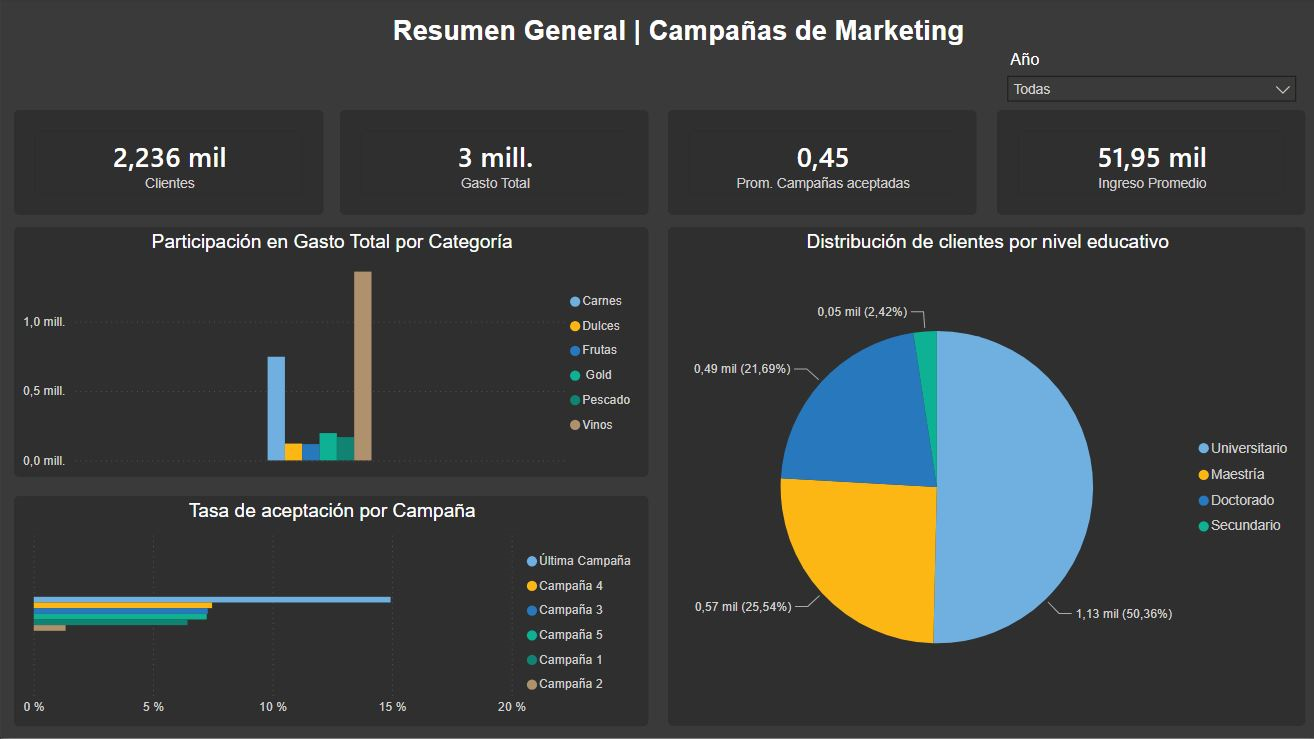

Layout of this report page (visuals, bound fields, positions):
{"tool":"powerbi","page":{"name":"Resumen General","canvas":[1280,720],"ordinal":0},"visuals":[{"type":"cardVisual","fields":{"Data":["Sum(fact_purchases.Total_Spending)"]},"box":[330,109,300,102],"z":0},{"type":"cardVisual","fields":{"Data":["Count(fact_purchases.customer_id)"]},"box":[13,109,301,102],"z":1000},{"type":"cardVisual","fields":{"Data":["Avg(fact_purchases.Total_Campaigns_Accepted)"]},"box":[649,109,300,102],"z":2000},{"type":"cardVisual","fields":{"Data":["Avg(dim_customer.Income)"]},"box":[969,109,300,102],"z":3000},{"type":"clusteredColumnChart","title":"Participación en Gasto Total por Categoría","fields":{"Y":["_Medidas.Total Carnes","_Medidas.Total Dulces","_Medidas.Total Frutas","_Medidas.Total Gold","_Medidas.Total Pescado","_Medidas.Total Vinos"]},"box":[13,223,617,243],"z":4000},{"type":"clusteredBarChart","title":"Tasa de aceptación por Campaña","fields":{"Y":["_Medidas.Tasa Last Cmp","_Medidas.Tasa Cmp4","_Medidas.Tasa Cmp3","_Medidas.Tasa Cmp5","_Medidas.Tasa Cmp1","_Medidas.Tasa Cmp2"]},"box":[13,484,617,224],"z":5000},{"type":"pieChart","title":"Distribución de clientes por nivel educativo","fields":{"Category":["dim_customer.Education"],"Y":["CountNonNull(dim_customer.customer_id)"]},"box":[649,223,620,485],"z":6000},{"type":"textbox","box":[349.2,11.7,619.6,45.7],"z":7000},{"type":"slicer","fields":{"Values":["dim_fecha.year"]},"box":[968.8,45.7,300.5,63.2],"z":8000}]}

Visuals, with their boxes in screenshot pixels (x1, y1, x2, y2), scaled from the page's 1280x720 canvas onto the 1314x739 screenshot:
cardVisual - Sum(fact_purchases.Total_Spending): {"x1": 339, "y1": 112, "x2": 647, "y2": 217}
cardVisual - Count(fact_purchases.customer_id): {"x1": 13, "y1": 112, "x2": 322, "y2": 217}
cardVisual - Avg(fact_purchases.Total_Campaigns_Accepted): {"x1": 666, "y1": 112, "x2": 974, "y2": 217}
cardVisual - Avg(dim_customer.Income): {"x1": 995, "y1": 112, "x2": 1303, "y2": 217}
"Participación en Gasto Total por Categoría" clusteredColumnChart: {"x1": 13, "y1": 229, "x2": 647, "y2": 478}
"Tasa de aceptación por Campaña" clusteredBarChart: {"x1": 13, "y1": 497, "x2": 647, "y2": 727}
"Distribución de clientes por nivel educativo" pieChart: {"x1": 666, "y1": 229, "x2": 1303, "y2": 727}
textbox: {"x1": 358, "y1": 12, "x2": 995, "y2": 59}
slicer - dim_fecha.year: {"x1": 995, "y1": 47, "x2": 1303, "y2": 112}
